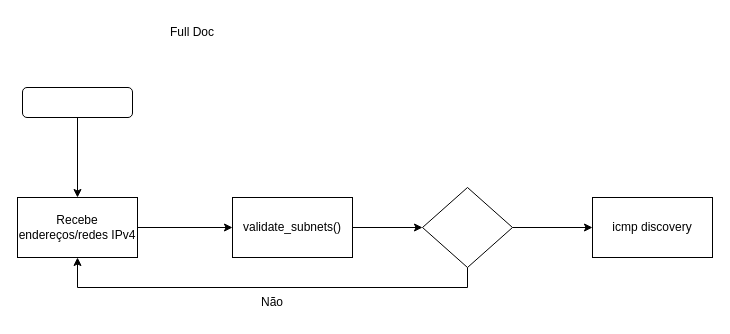
Some shapes in this 730 by 334 pixel diagram are drawn without their labels. The shapes that lost their labels are listed below. From the top down, each one's centre as x and y in pixels, then its label:
point 77,102: Inicio
point 467,227: Endereços válidos?
